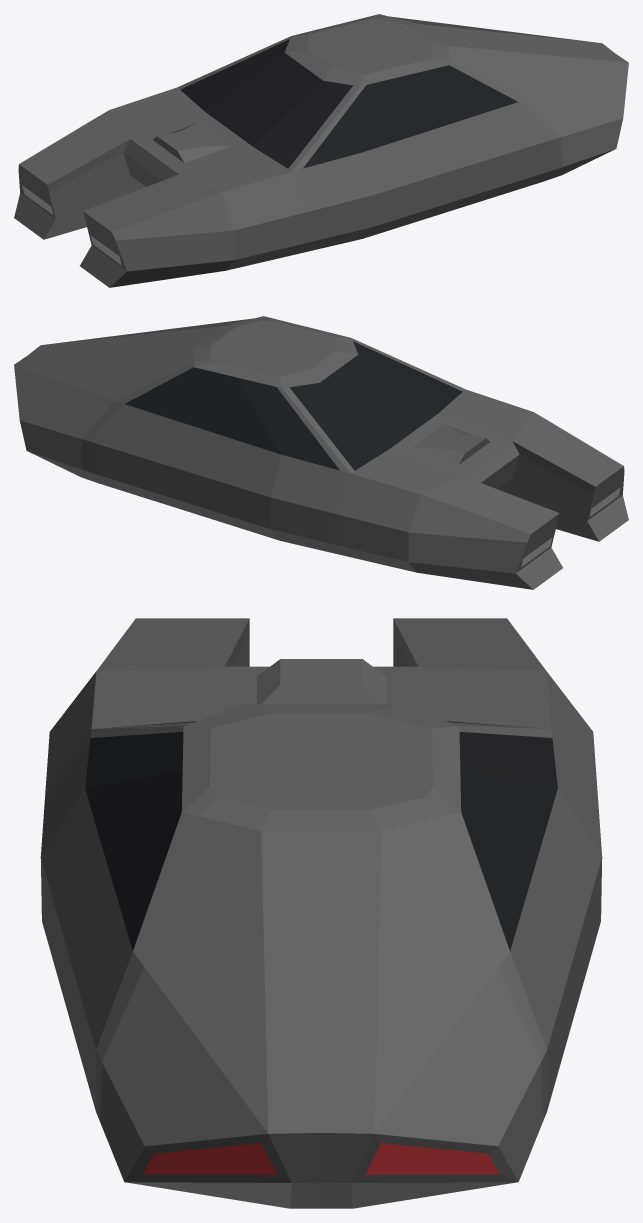
The model's file is Car-1.fbx.
3 views of the same model, one above another, from view 1: azimuth 30°, elevation 25°; view 2: azimuth 150°, elevation 25°; view 3: azimuth 270°, elevation 25° (orthographic). The views are drawn at different scales.
Parts seen in each view (by area): view 1: Car-1; view 2: Car-1; view 3: Car-1.
Boxes of the visible parts, left/top/right/bottom form: Car-1: left=14, top=14, right=628, bottom=287; Car-1: left=14, top=316, right=628, bottom=589; Car-1: left=40, top=618, right=602, bottom=1208.
Bounding box in the file's own units: 435 × 98.82 × 191.
